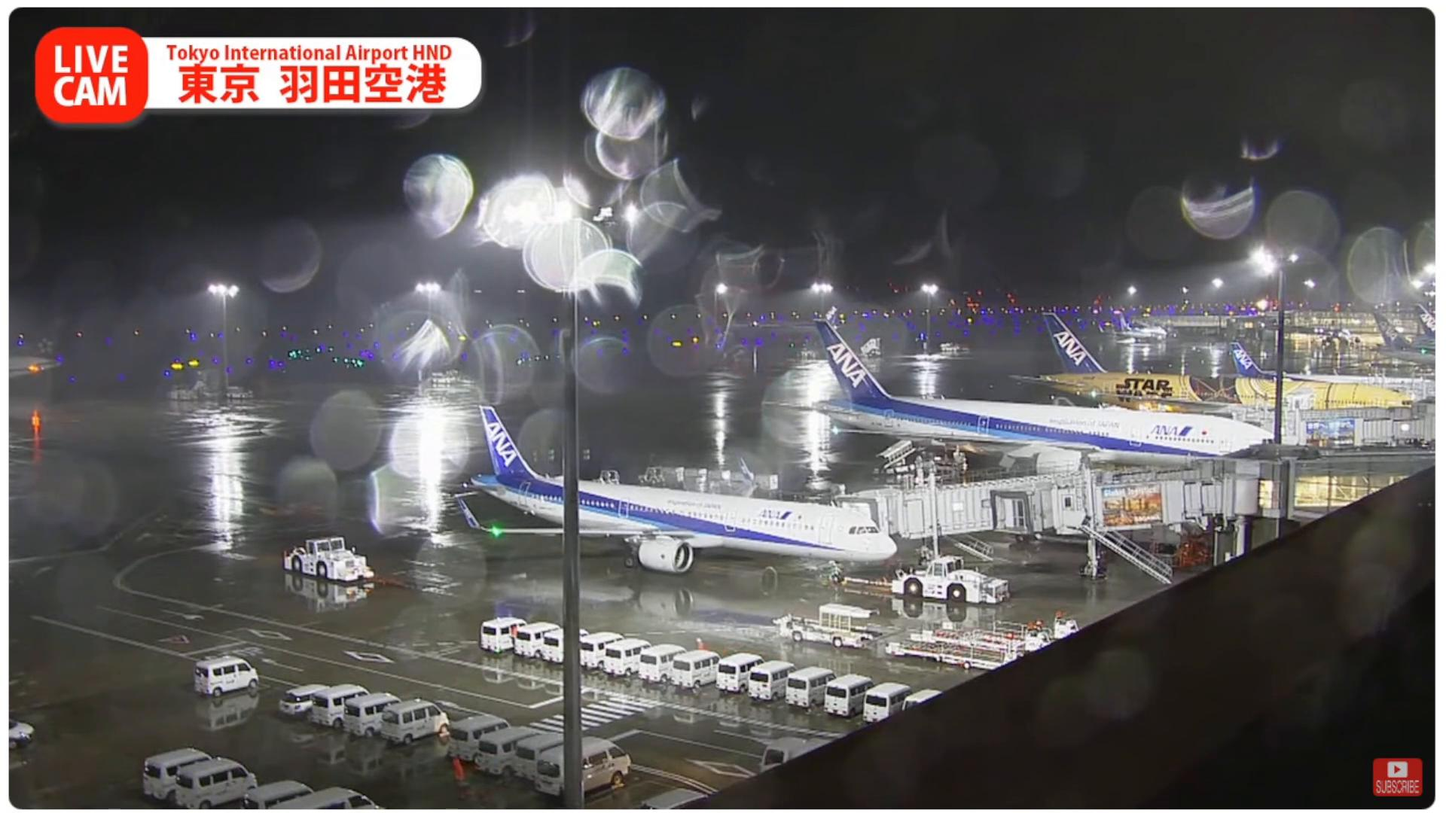APS: (887, 554, 1009, 608), (281, 534, 376, 582)
Aerobridge: (837, 461, 1193, 540), (988, 473, 1227, 539)
Airplane: (458, 404, 896, 584)
JCPL: (914, 608, 1086, 654), (884, 636, 1033, 667)
Skyloader: (771, 602, 883, 649)
Window: (1289, 476, 1414, 509)
